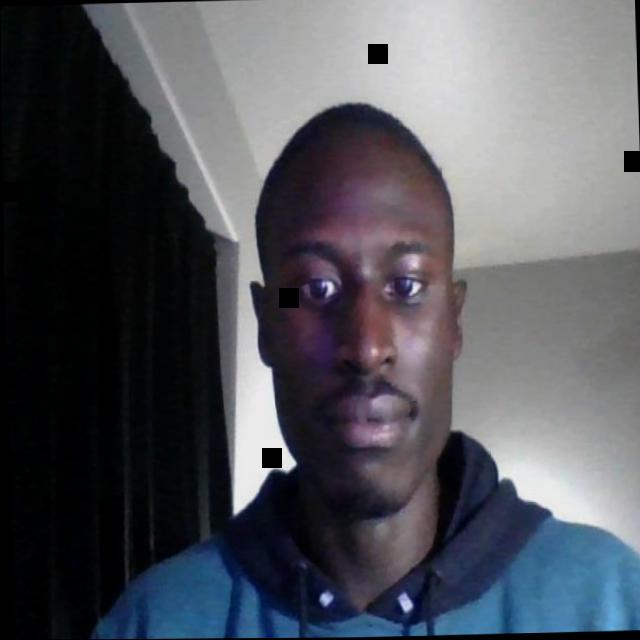NO-Mask: (258, 157, 459, 526)
